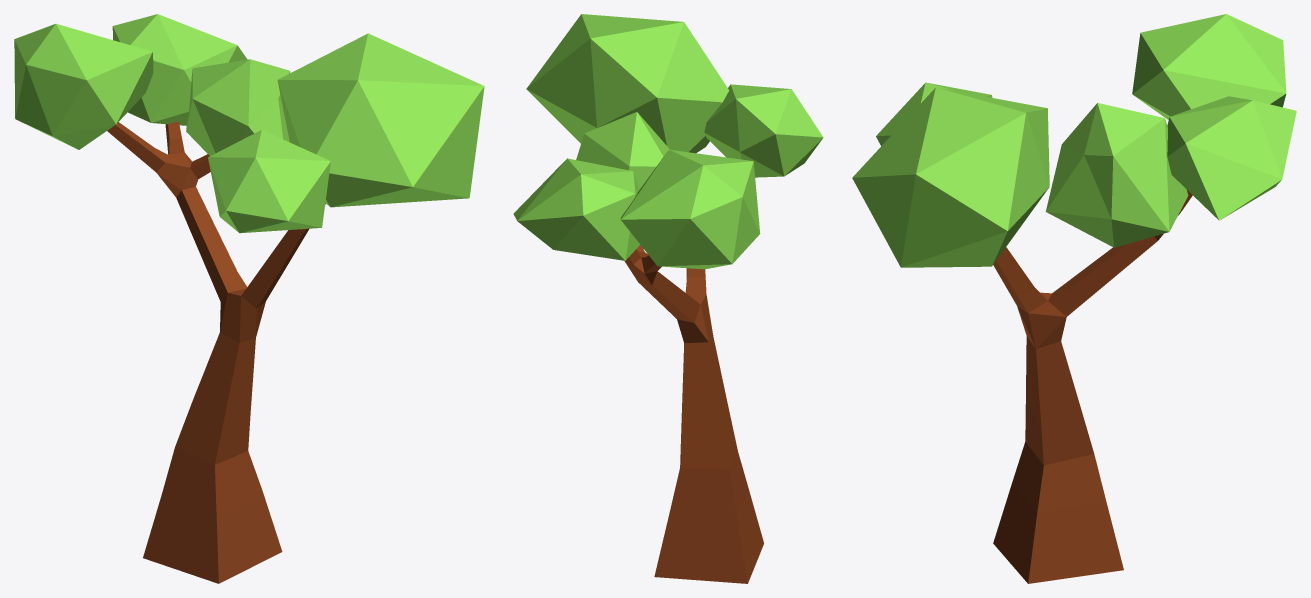
File: tree.fbx
The picture shows the model from 3 angles, left to right: view 1: azimuth 30°, elevation 25°; view 2: azimuth 150°, elevation 25°; view 3: azimuth 270°, elevation 25°; orthographic projection. The views are drawn at different scales.
Visible parts, largest first — view 1: Icosphere.001, Cube; view 2: Icosphere.001, Cube; view 3: Icosphere.001, Cube.
Boxes of the visible parts, <box> form: Icosphere.001: <box>14,14,484,233</box>; Cube: <box>107,121,325,583</box>; Icosphere.001: <box>513,14,823,269</box>; Cube: <box>624,245,763,583</box>; Icosphere.001: <box>852,14,1296,267</box>; Cube: <box>993,190,1192,583</box>.
Bounding box in the file's own units: 537 × 786 × 615.
